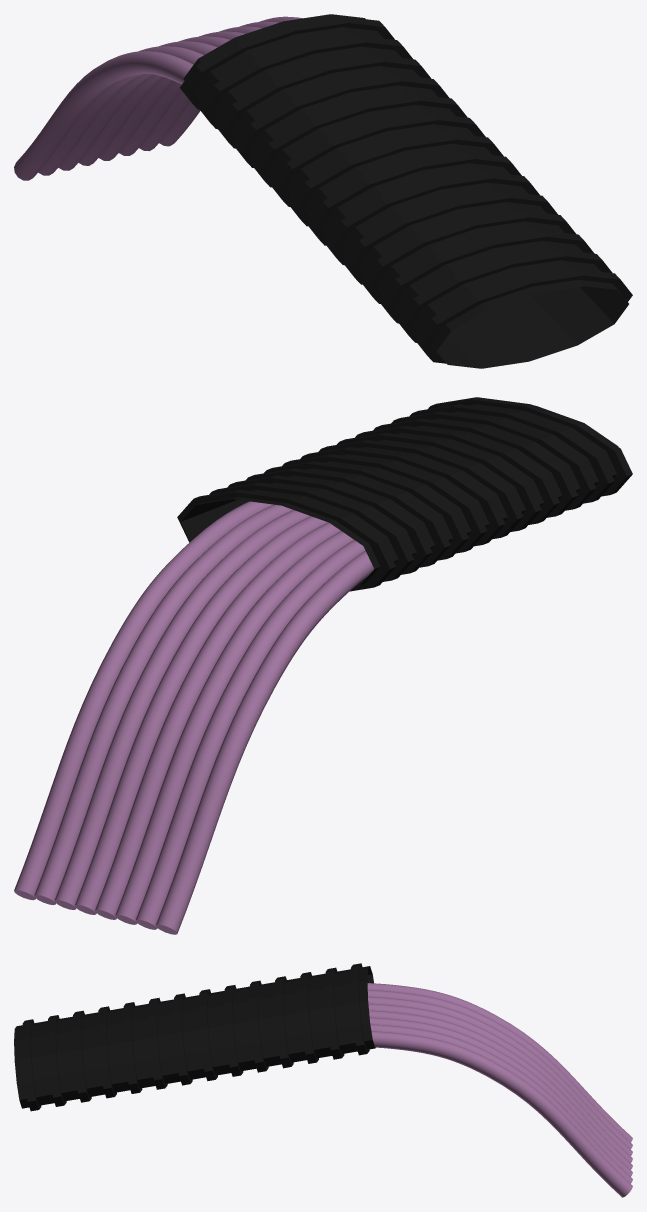
Rendered from Robot Base Tongue.fbx.
3 renders of one model, top to bottom at view 1: azimuth 30°, elevation 25°; view 2: azimuth 150°, elevation 25°; view 3: azimuth 270°, elevation 25°, orthographic. The views are drawn at different scales.
Visible parts, largest first — view 1: Tongue_case.002, Tongue_wires.005; view 2: Tongue_wires.005, Tongue_case.002; view 3: Tongue_case.002, Tongue_wires.005.
Part boxes in pixels (left/top/right/bottom): Tongue_case.002: left=180, top=14, right=632, bottom=368; Tongue_wires.005: left=14, top=16, right=302, bottom=180; Tongue_wires.005: left=14, top=501, right=373, bottom=934; Tongue_case.002: left=177, top=397, right=632, bottom=591; Tongue_case.002: left=14, top=963, right=375, bottom=1111; Tongue_wires.005: left=367, top=983, right=632, bottom=1197.
Size of the model in its own units: 63.09 by 78.8 by 229.
